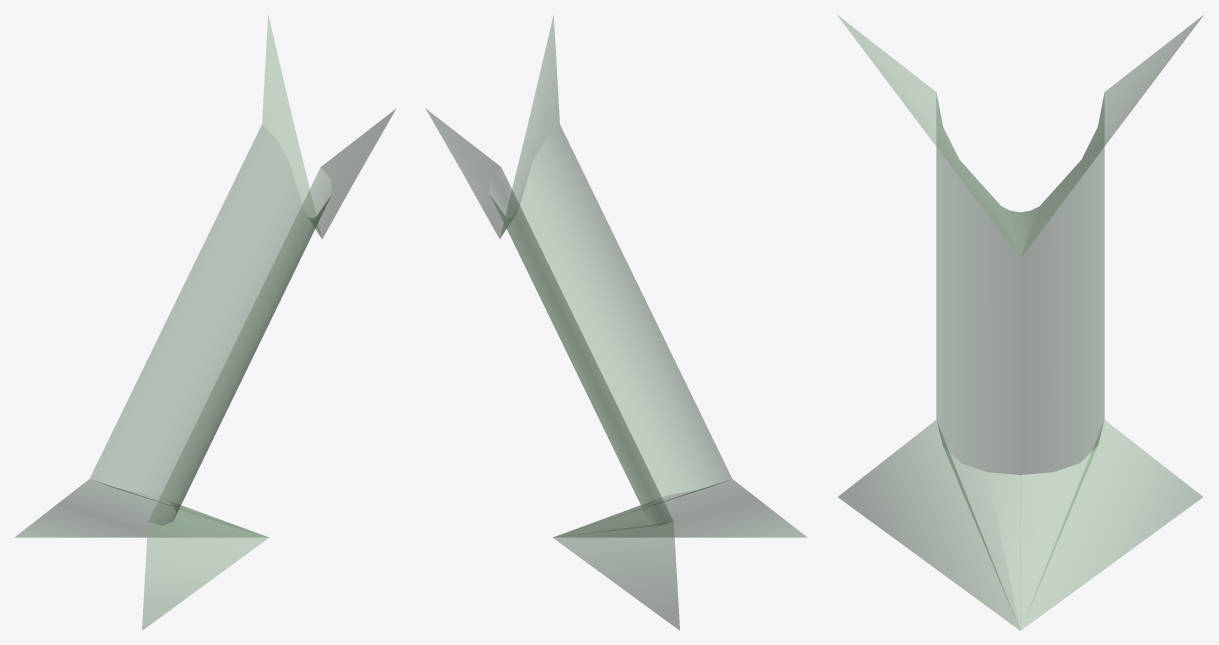
The model's file is kleinquartic.obj.
3 views of the same model, side by side, from view 1: azimuth 30°, elevation 25°; view 2: azimuth 150°, elevation 25°; view 3: azimuth 270°, elevation 25° (orthographic). The views are drawn at different scales.
Parts seen in each view (by area): view 1: Klein Quartic\Surface; view 2: Klein Quartic\Surface; view 3: Klein Quartic\Surface.
Boxes of the visible parts, box(x1,y1,x2,y2) form: Klein Quartic\Surface: box(14, 15, 395, 630); Klein Quartic\Surface: box(426, 15, 807, 630); Klein Quartic\Surface: box(837, 15, 1203, 630).
Bounding box in the file's own units: 0.1504 × 0.2605 × 0.1316.
